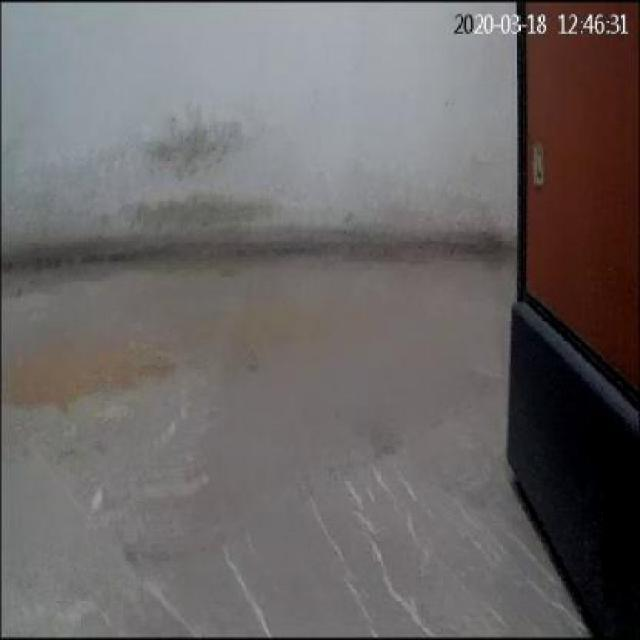spill: (1, 333, 180, 409)
